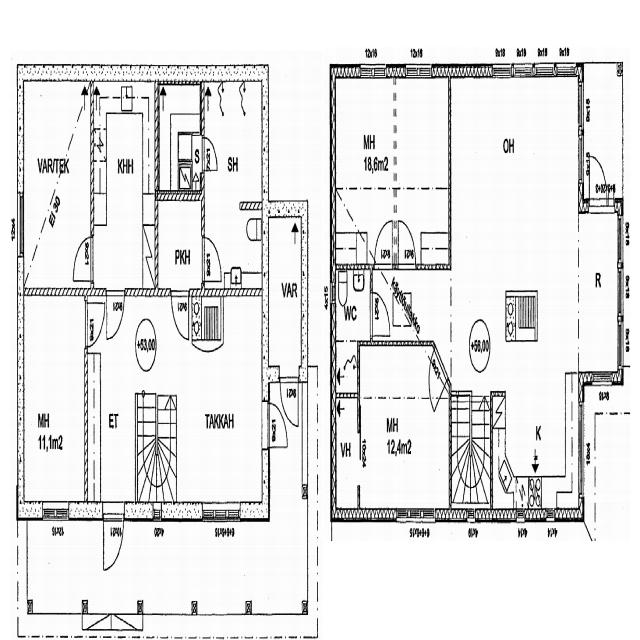door: (101, 506, 125, 574), (105, 288, 126, 344), (278, 374, 300, 426), (170, 286, 190, 342), (587, 152, 608, 202), (72, 233, 92, 284), (86, 296, 106, 347), (374, 218, 395, 265), (397, 217, 417, 265), (268, 401, 286, 450), (372, 290, 391, 336), (204, 234, 222, 282), (203, 135, 218, 171)
window: (16, 182, 26, 259), (41, 500, 70, 523), (578, 85, 584, 137)
zone: (451, 79, 584, 236), (334, 79, 450, 229), (18, 290, 88, 512), (20, 78, 92, 289), (91, 102, 154, 291), (492, 375, 578, 510), (203, 107, 264, 208), (266, 218, 304, 371), (158, 82, 202, 198), (203, 204, 263, 287), (156, 198, 204, 291), (334, 266, 372, 343)
